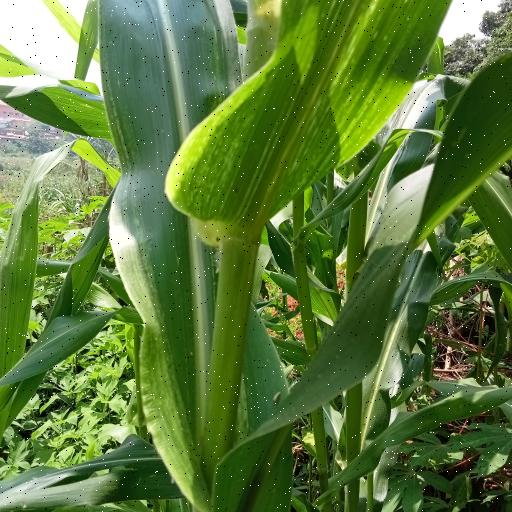Corn_Streak: (174, 0, 459, 256)
